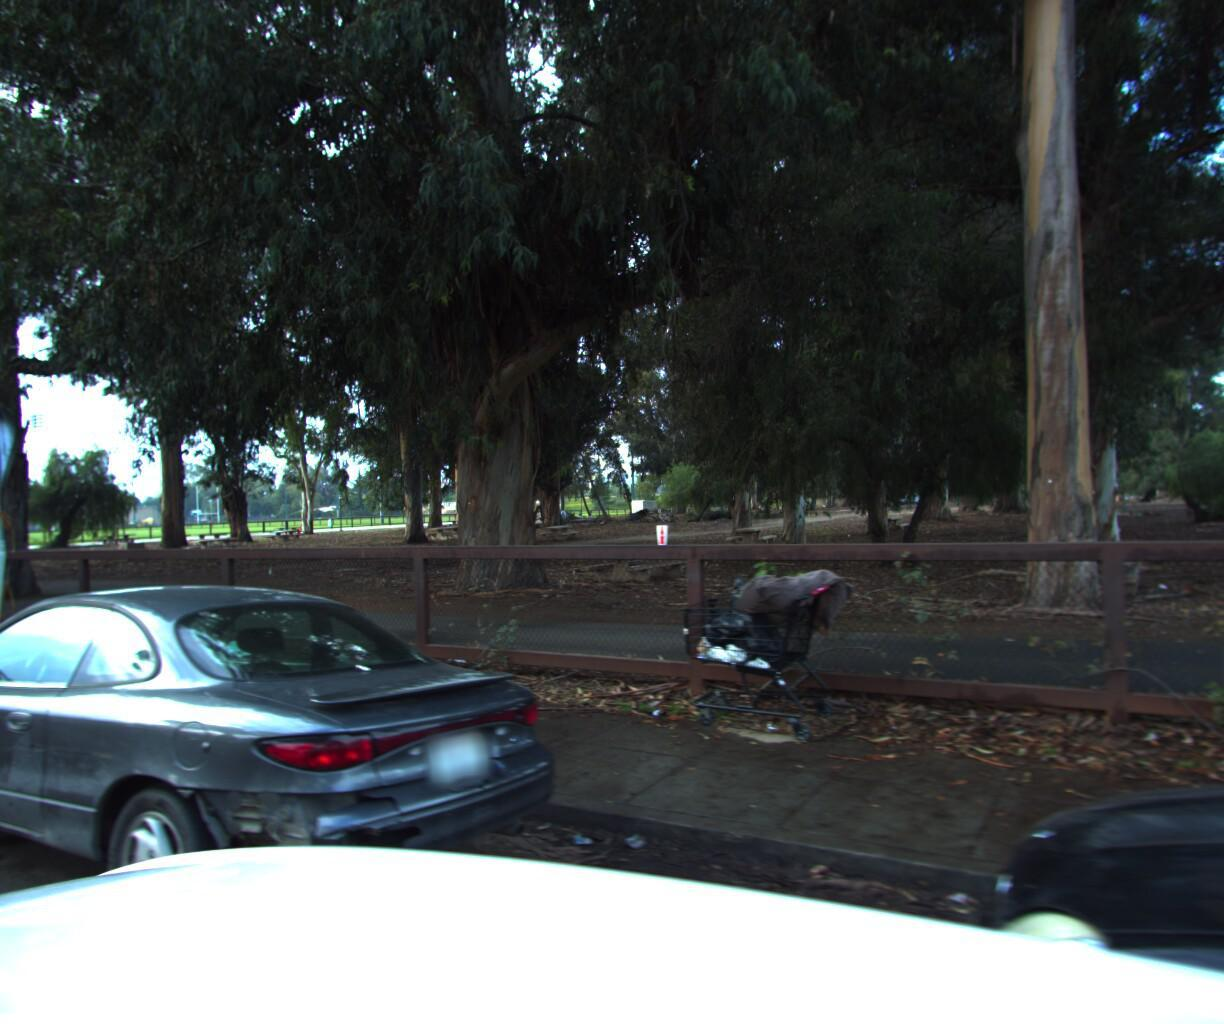car: (0, 559, 620, 1024)
other_vehicle: (0, 291, 57, 794)
